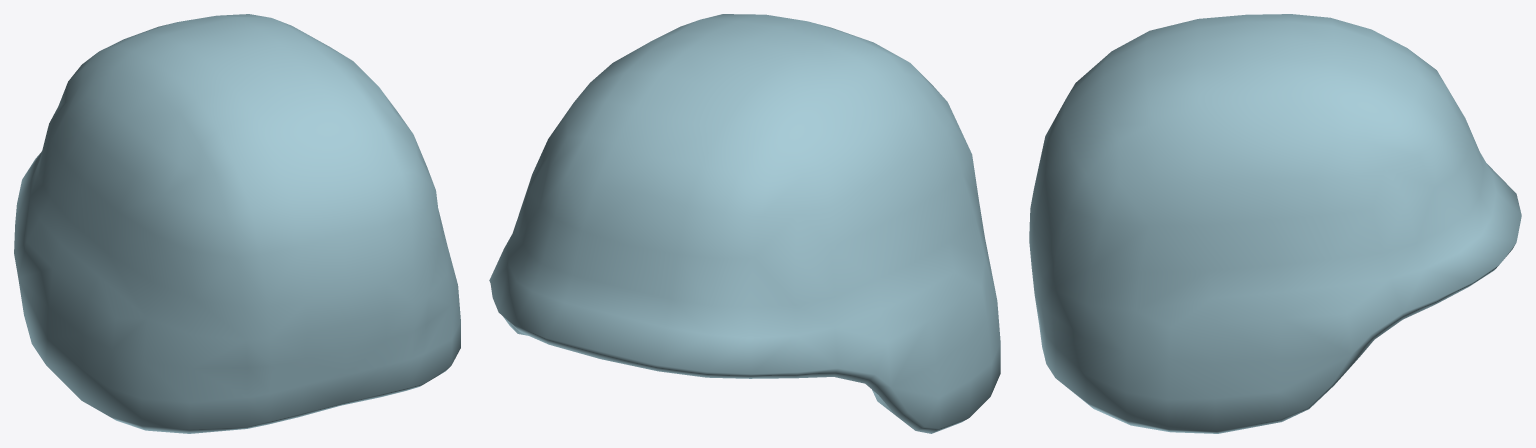
Rendered from Helmet.fbx.
3 views of the same model, side by side, from view 1: azimuth 30°, elevation 25°; view 2: azimuth 150°, elevation 25°; view 3: azimuth 270°, elevation 25° (orthographic). The views are drawn at different scales.
Parts seen in each view (by area): view 1: Bandit6; view 2: Bandit6; view 3: Bandit6.
Boxes of the visible parts, x1,y1,x2,y2 form: Bandit6: [14, 14, 460, 433]; Bandit6: [489, 14, 1000, 433]; Bandit6: [1029, 14, 1521, 433].
Bounding box in the file's own units: 24.98 × 19.93 × 28.51.
